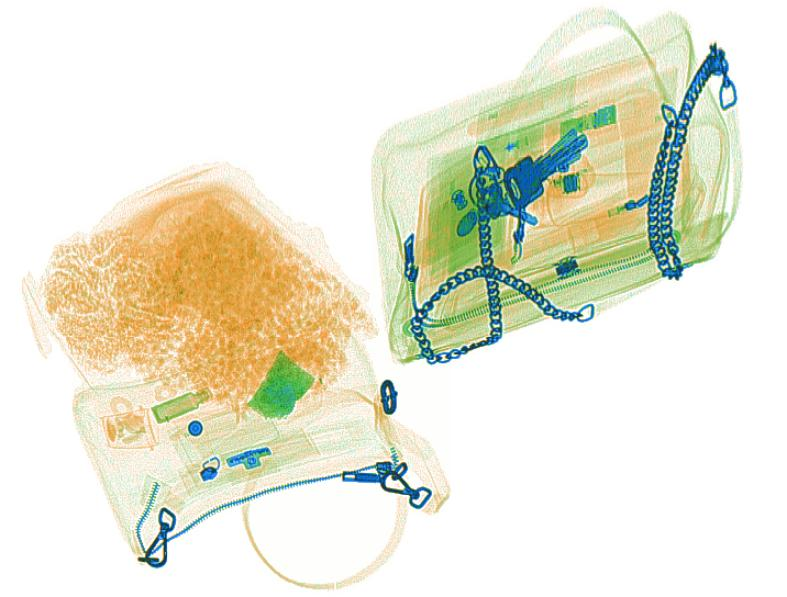USBFlashDisk: (558, 103, 616, 137)
